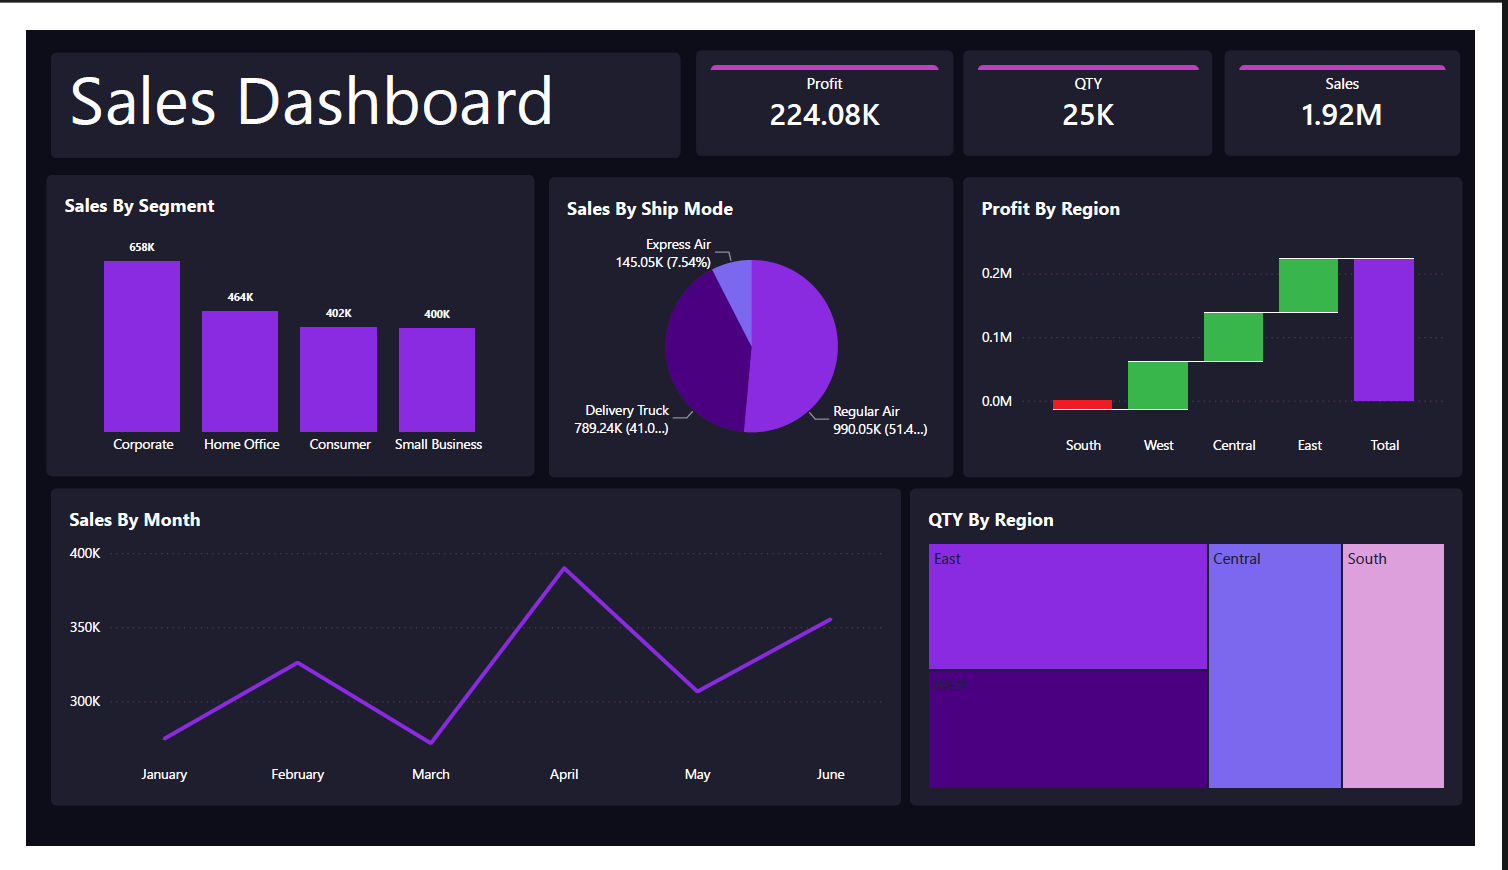

This screenshot's page, from the dashboard's own definition file:
{"tool":"powerbi","page":{"name":"Dashboard","canvas":[1280,720],"ordinal":0},"visuals":[{"type":"shape","box":[22,19.6,556.4,92.9],"z":0},{"type":"textbox","box":[22,19.6,556.4,92.9],"z":1000},{"type":"clusteredColumnChart","title":"Sales By Segment","fields":{"Category":["Orders.Customer Segment"],"Y":["Sum(Orders.Sales)"]},"box":[18.3,128.4,430.4,265.4],"z":2000},{"type":"pieChart","title":"Sales By Ship Mode","fields":{"Category":["Orders.Ship Mode"],"Y":["Sum(Orders.Sales)"]},"box":[462.2,129.6,357.1,265.4],"z":3000},{"type":"waterfallChart","title":"Profit By Region","fields":{"Category":["Orders.Region"],"Y":["Sum(Orders.Profit)"]},"box":[827.9,129.6,441.4,265.4],"z":4000},{"type":"lineChart","title":"Sales By Month","fields":{"Category":["Orders.Order Date.Variation.Date Hierarchy.Month"],"Y":["Sum(Orders.Sales)"]},"box":[22,404.8,750.8,280],"z":5000},{"type":"treemap","title":"QTY By Region","fields":{"Group":["Orders.Region"],"Values":["Sum(Orders.Quantity ordered new)"]},"box":[781.4,404.8,487.9,280],"z":6000},{"type":"cardVisual","fields":{"Data":["Sum(Orders.Profit)"]},"box":[592.4,18.1,226.8,92.9],"z":7000},{"type":"cardVisual","fields":{"Data":["Sum(Orders.Quantity ordered new)"]},"box":[827.6,18.1,220.8,92.9],"z":8000},{"type":"cardVisual","fields":{"Data":["Sum(Orders.Sales)"]},"box":[1059.3,18.1,207.5,92.9],"z":9000}]}

Visuals, with their boxes in screenshot pixels (x1, y1, x2, y2), scaled from the page's 1280x720 canvas onto the 1508x870 screenshot:
shape: x1=26, y1=24, x2=681, y2=136
textbox: x1=26, y1=24, x2=681, y2=136
"Sales By Segment" clusteredColumnChart: x1=22, y1=155, x2=529, y2=476
"Sales By Ship Mode" pieChart: x1=545, y1=157, x2=965, y2=477
"Profit By Region" waterfallChart: x1=975, y1=157, x2=1495, y2=477
"Sales By Month" lineChart: x1=26, y1=489, x2=910, y2=827
"QTY By Region" treemap: x1=921, y1=489, x2=1495, y2=827
cardVisual - Sum(Orders.Profit): x1=698, y1=22, x2=965, y2=134
cardVisual - Sum(Orders.Quantity ordered new): x1=975, y1=22, x2=1235, y2=134
cardVisual - Sum(Orders.Sales): x1=1248, y1=22, x2=1492, y2=134
